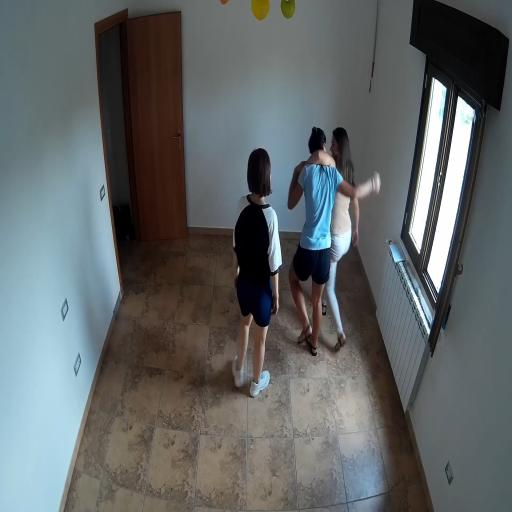nao-violencia: (285, 116, 386, 362)
